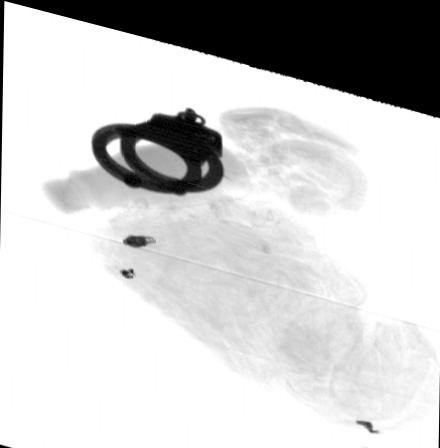HandCuffs: (92, 96, 227, 186)
